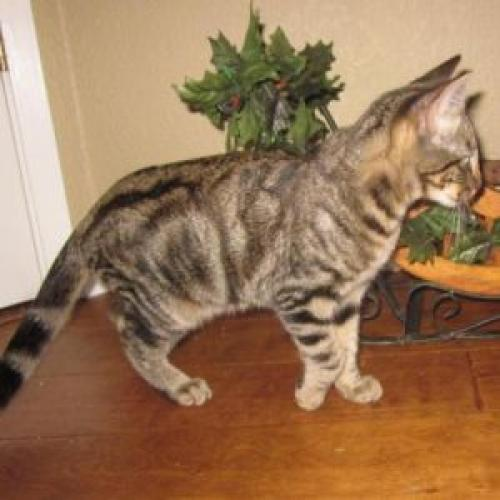cat-face: (366, 46, 494, 226)
